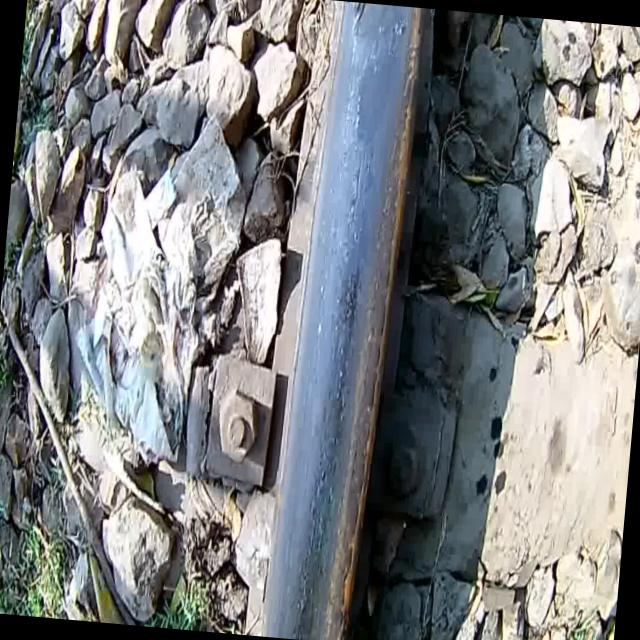Squats: (241, 0, 456, 640)
